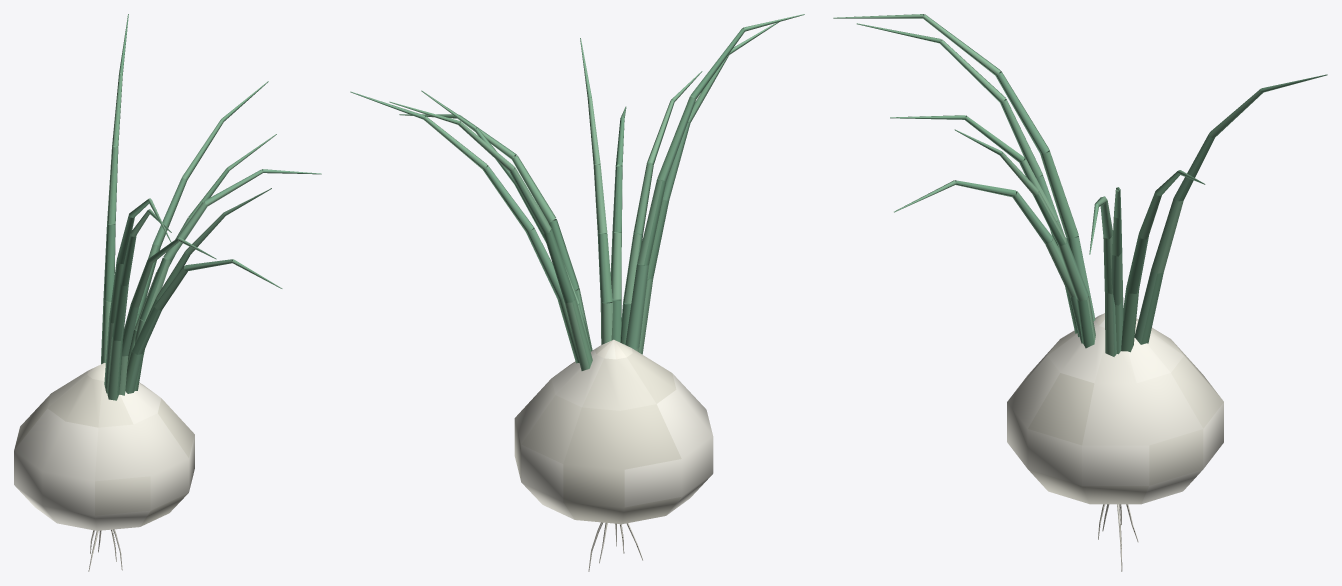
Rendered from oignon_blanc_mur.glb.
3 renders of one model, left to right at view 1: azimuth 30°, elevation 25°; view 2: azimuth 150°, elevation 25°; view 3: azimuth 270°, elevation 25°, orthographic. The views are drawn at different scales.
Visible parts, largest first — view 1: Oignon_Bulbe, Oignon_Feuilles; view 2: Oignon_Bulbe, Oignon_Feuilles; view 3: Oignon_Bulbe, Oignon_Feuilles.
Part boxes in pixels (x1,y1,x2,y2): Oignon_Bulbe: [14, 363, 194, 530]; Oignon_Feuilles: [101, 14, 321, 400]; Oignon_Bulbe: [514, 339, 713, 524]; Oignon_Feuilles: [350, 14, 804, 370]; Oignon_Bulbe: [1007, 313, 1223, 504]; Oignon_Feuilles: [833, 14, 1327, 356].
Bounding box in the file's own units: 0.3027 × 0.4809 × 0.3909.
